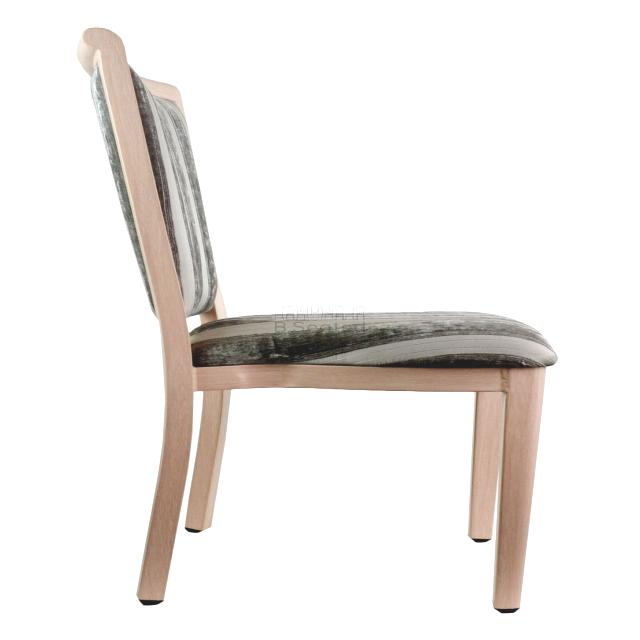Chair: (73, 25, 559, 616)
